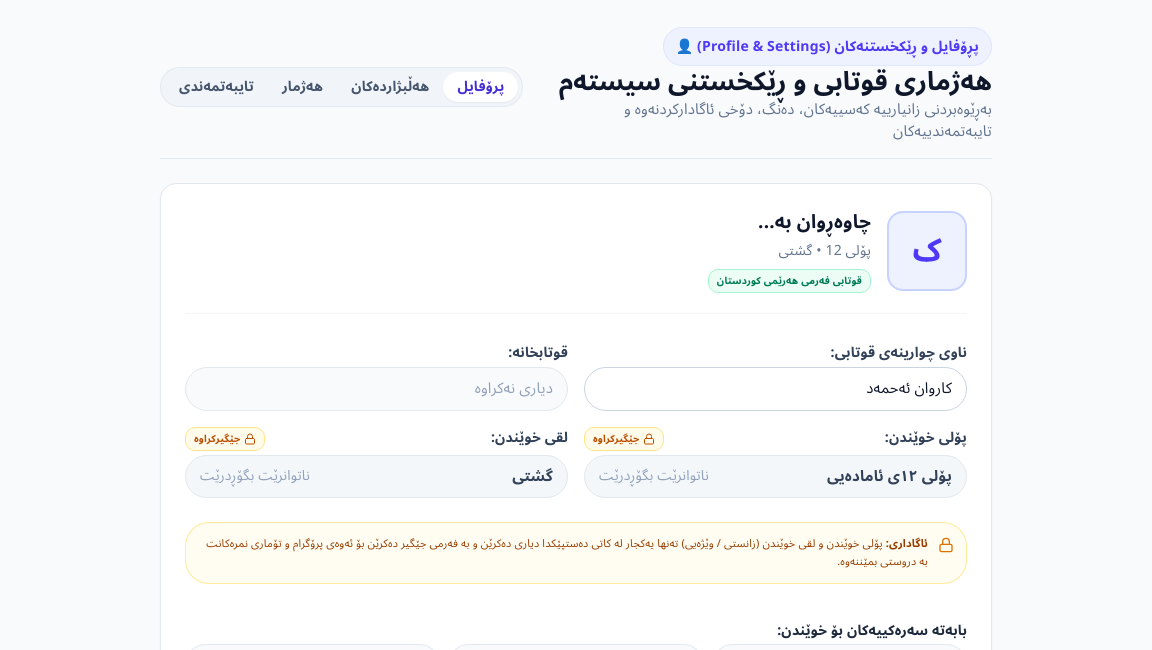
it: ProfileAndSettings - Data Usage & Privacy Section › shows confirmation, preserves auth and protected student data, and issues zero server requests when clearing cache
Click the button "تایبەتمەندی" at (216, 87), box [165,72,268,102]
(page scrolled)
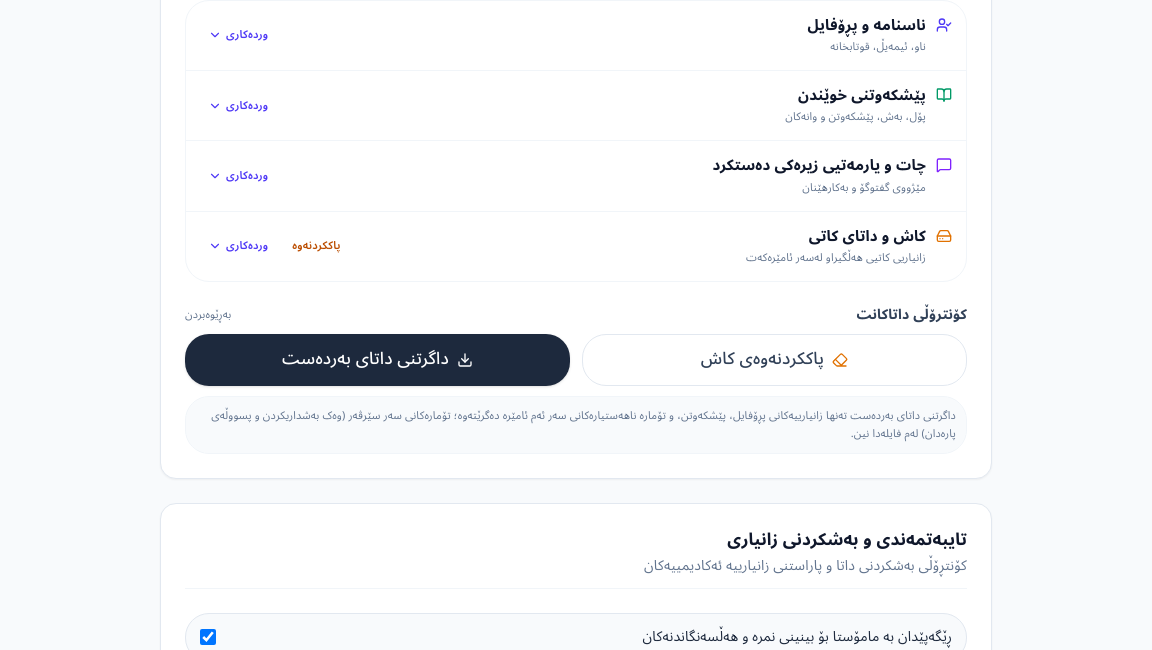
Click the button "پاککردنەوەی کاش" at (774, 360), box [582,334,967,386]
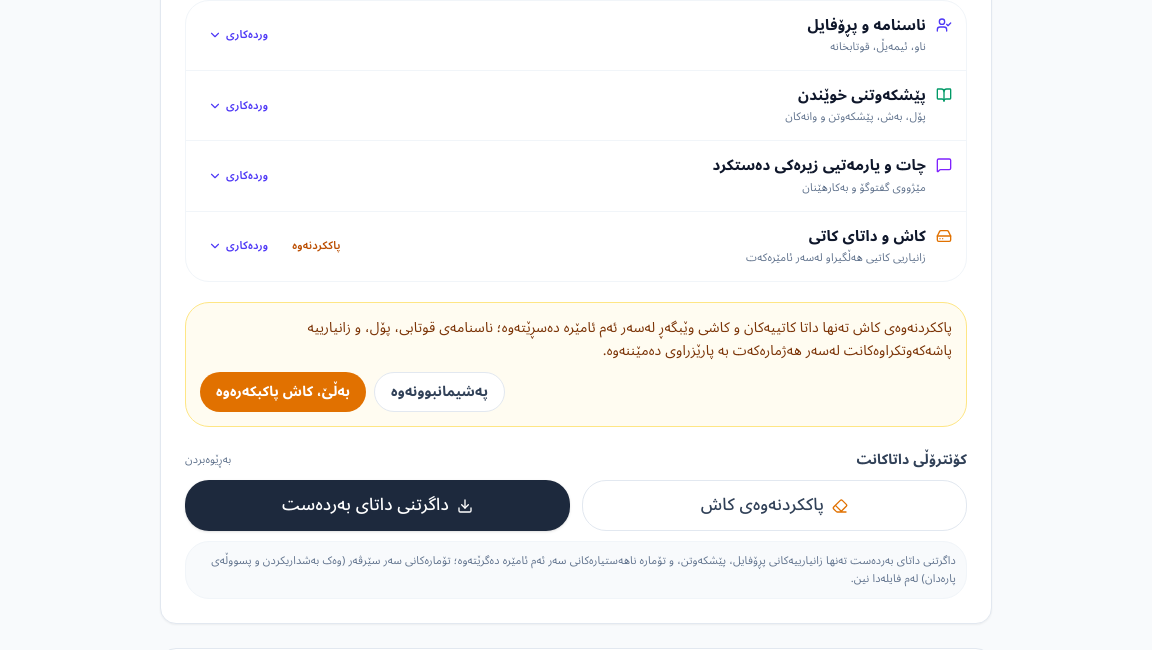
Check: the text "پاککردنەوەی کاش تەنها داتا کاتییەکان و کاشی وێبگەڕ لەسەر ئەم ئامێرە دەسڕێتەوە" is shown, box [308,313,952,365]
Click the button "بەڵێ، کاش پاکبکەرەوە" at (283, 392), box [200,372,366,412]
(page scrolled)
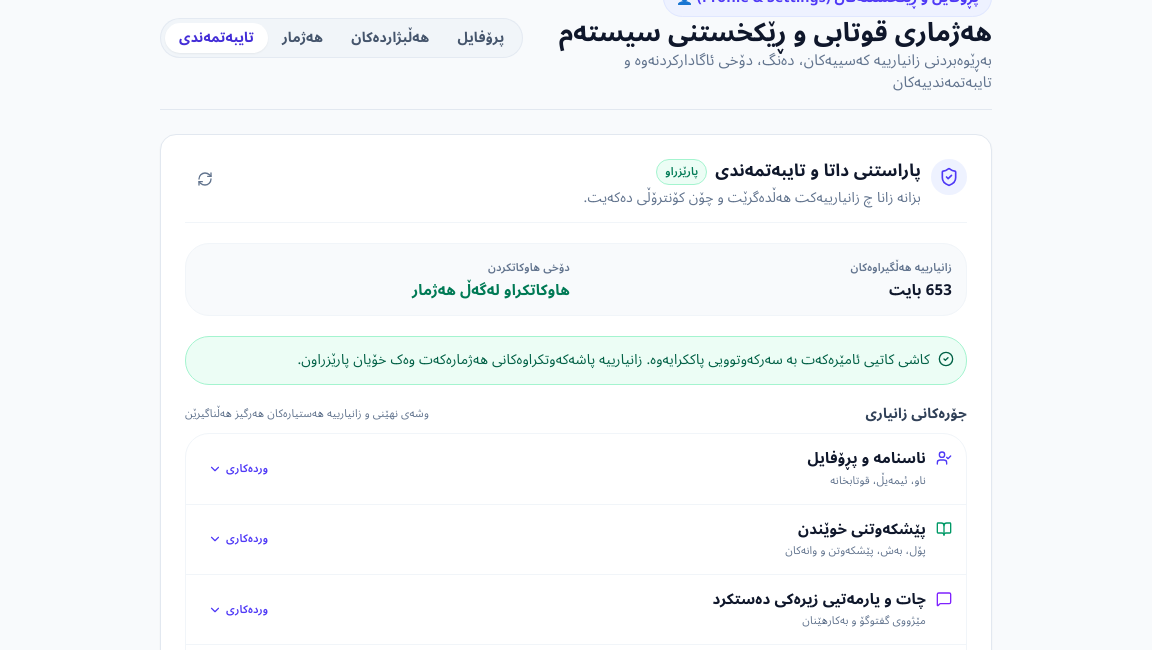
Check: the message shows "کاشی کاتیی ئامێرەکەت بە سەرکەوتوویی پاککرایەوە", box [297,345,930,374]
